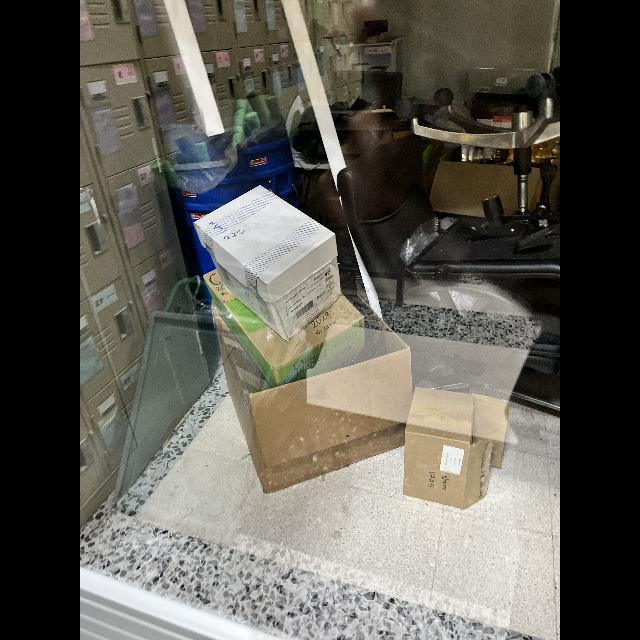cardboard_box: (216, 304, 418, 498), (194, 183, 340, 335), (206, 260, 367, 390), (392, 382, 518, 522)
